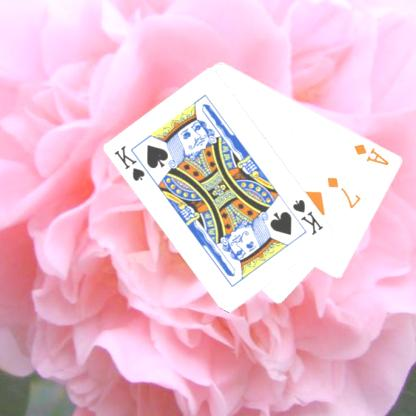7D: (324, 174, 362, 210)
AD: (351, 141, 391, 167)
KS: (112, 143, 154, 183), (290, 196, 325, 236)
